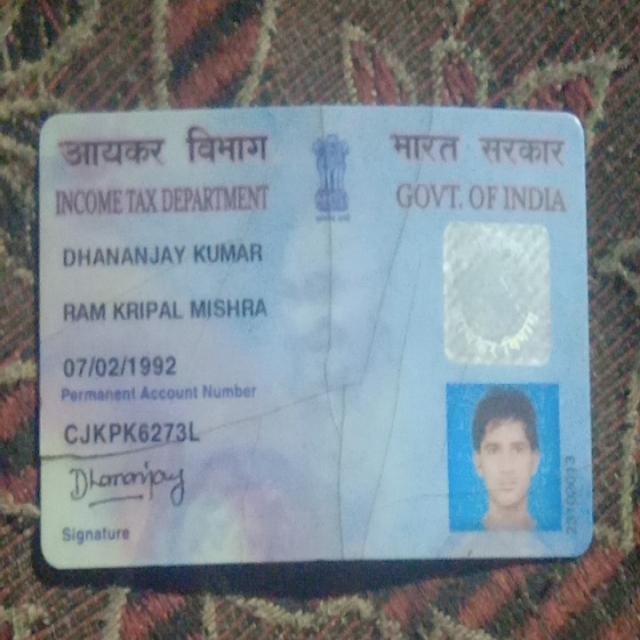pan_card: (42, 119, 587, 563)
